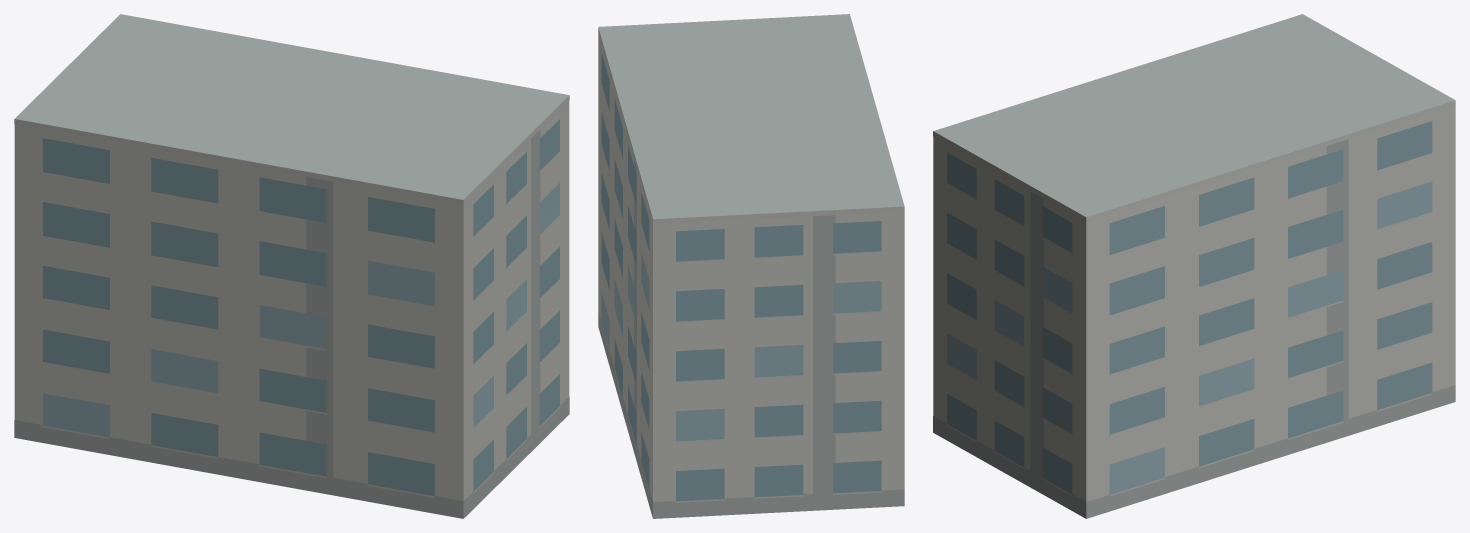
File: residential-48f82ccf-116c-4b30-8a3d-236836751077.glb
3 views of the same model, side by side, from view 1: azimuth 30°, elevation 25°; view 2: azimuth 150°, elevation 25°; view 3: azimuth 270°, elevation 25° (orthographic). The views are drawn at different scales.
Parts seen in each view (by area): view 1: residential-48f82ccf-116c-4b30-8a3d-236836751077.tmp; view 2: residential-48f82ccf-116c-4b30-8a3d-236836751077.tmp; view 3: residential-48f82ccf-116c-4b30-8a3d-236836751077.tmp.
Part boxes in pixels (box(x1,y1,x2,y2)): residential-48f82ccf-116c-4b30-8a3d-236836751077.tmp: box(14, 14, 569, 518); residential-48f82ccf-116c-4b30-8a3d-236836751077.tmp: box(598, 14, 904, 518); residential-48f82ccf-116c-4b30-8a3d-236836751077.tmp: box(933, 14, 1455, 518).
Bounding box in the file's own units: 20.9 × 14.45 × 22.7.
